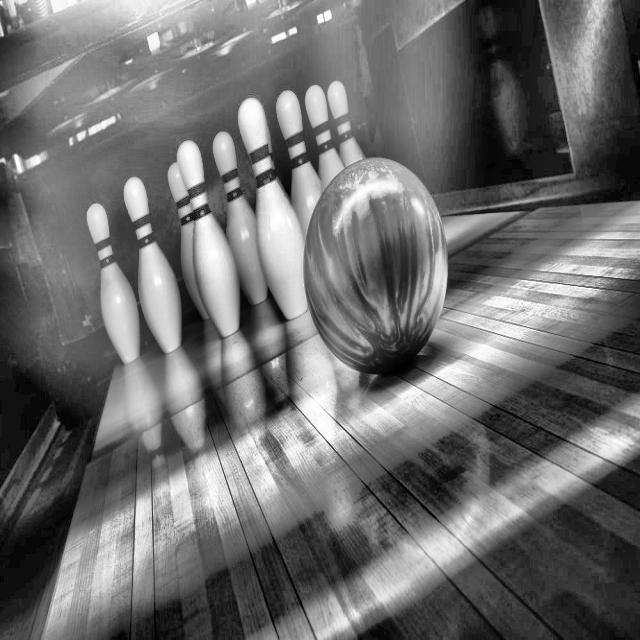bowling-ball: (305, 157, 449, 373)
bowling-pins: (239, 98, 308, 319), (177, 141, 240, 337), (124, 177, 181, 353), (213, 131, 268, 305), (86, 204, 139, 363), (277, 90, 323, 236), (168, 162, 208, 320), (306, 84, 345, 189), (328, 81, 365, 166)
